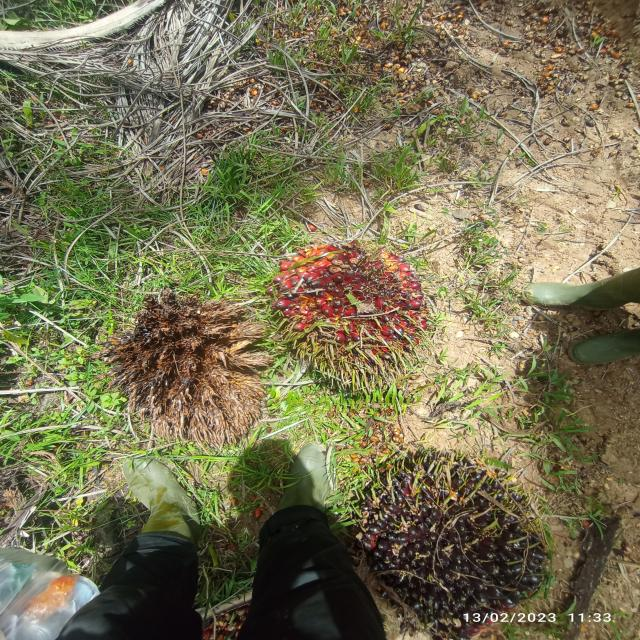fraksi 00: (332, 419, 562, 640)
fraksi 1: (228, 196, 492, 439)
